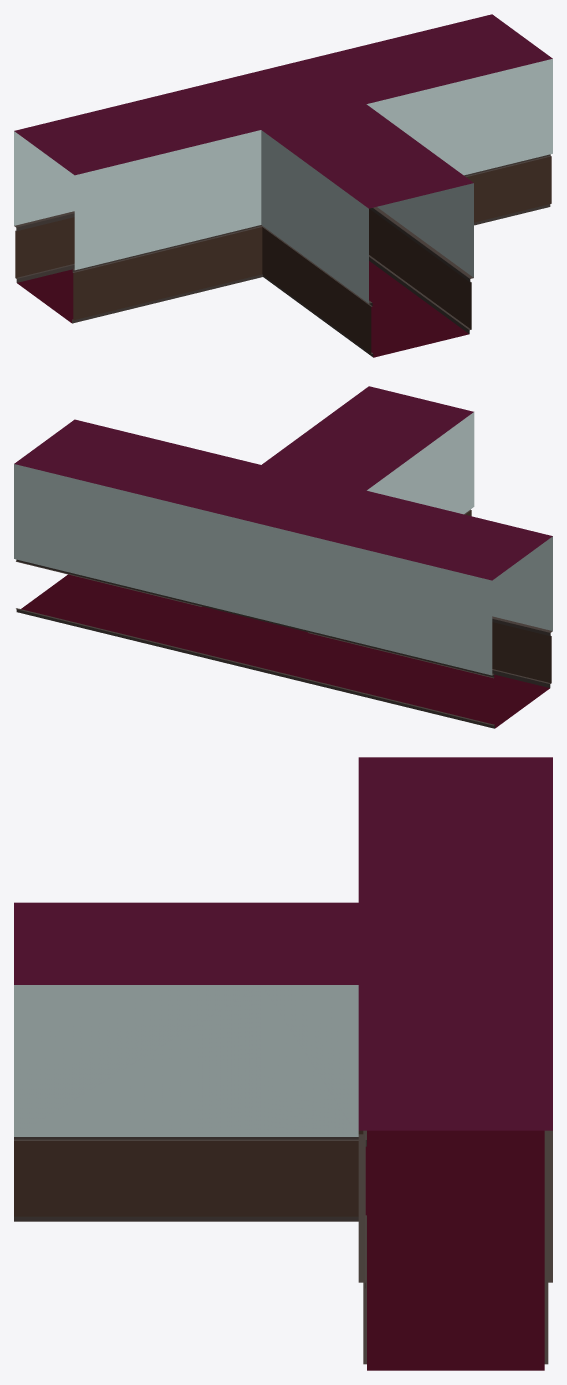
File: SM_Corridor_T.fbx
The picture shows the model from 3 angles, top to bottom: view 1: azimuth 30°, elevation 25°; view 2: azimuth 150°, elevation 25°; view 3: azimuth 270°, elevation 25°; orthographic projection. The views are drawn at different scales.
Parts seen in each view (by area): view 1: Corridor_T_polySurface3; view 2: Corridor_T_polySurface3; view 3: Corridor_T_polySurface3.
Boxes of the visible parts, bbox=[...] form: Corridor_T_polySurface3: bbox=[14, 14, 552, 357]; Corridor_T_polySurface3: bbox=[14, 386, 552, 728]; Corridor_T_polySurface3: bbox=[14, 757, 552, 1370].
Size of the model in its own units: 20 by 6 by 12.2.
